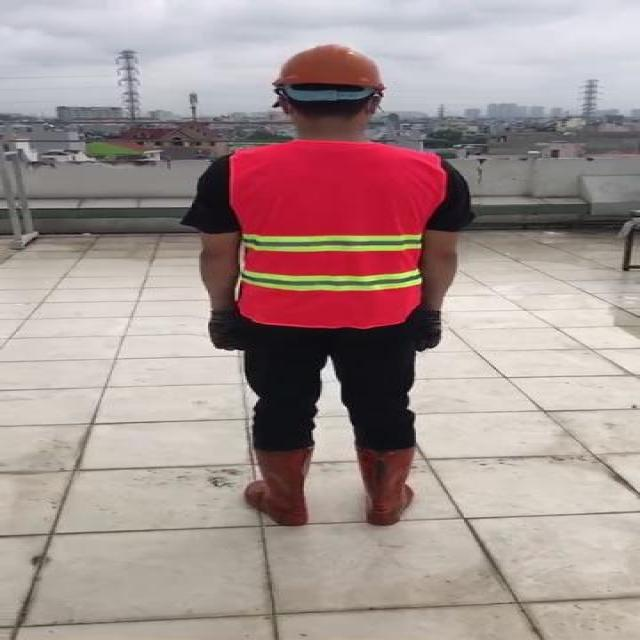boots: (243, 447, 314, 526), (354, 447, 416, 525)
hand_glove: (207, 312, 246, 351), (409, 308, 441, 349)
head_helmet: (274, 38, 386, 94)
person: (176, 32, 475, 530)
vest: (225, 143, 442, 328)
